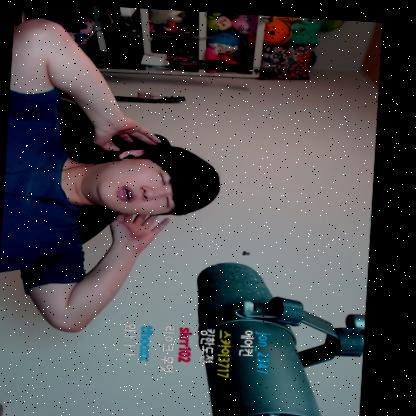streamer: (0, 17, 229, 339)
